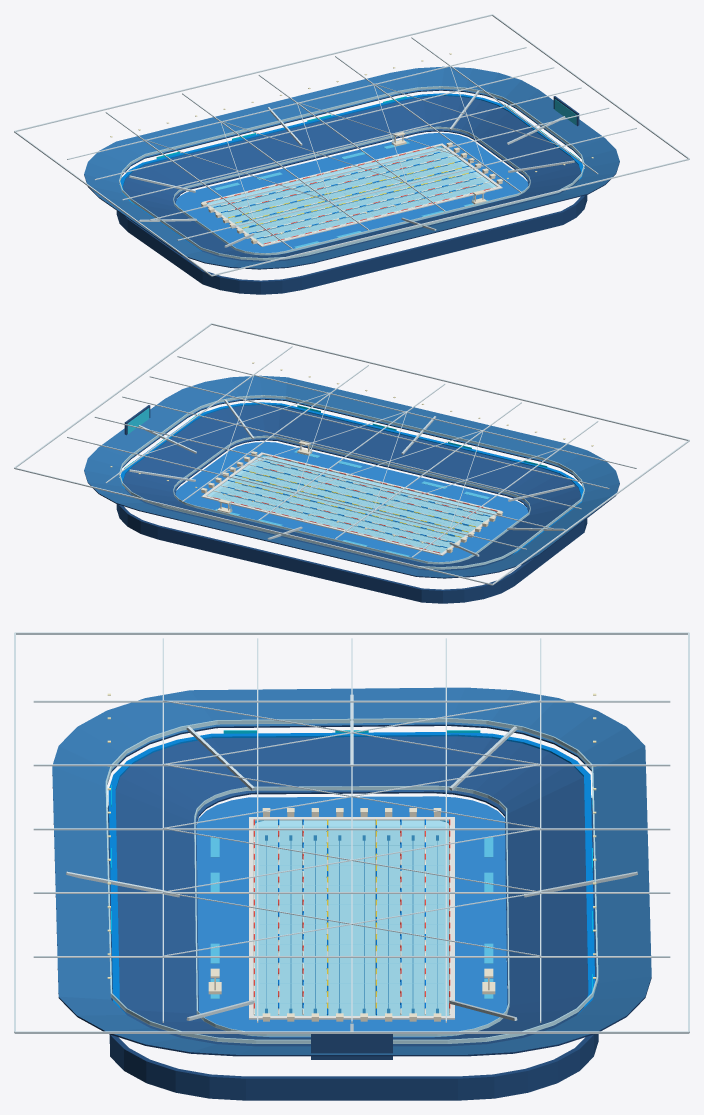
File: LowPolyPool.glb
3 views of the same model, one above another, from view 1: azimuth 30°, elevation 25°; view 2: azimuth 150°, elevation 25°; view 3: azimuth 270°, elevation 25° (orthographic). The views are drawn at different scales.
Visible parts, largest first — view 1: PoolWaterSurface, pool_floor, rounded_blue_pool_deck, dark_inner_concourse_wall, upper_bowl_continuous_row_4, upper_bowl_continuous_row_3, upper_bowl_continuous_row_2, upper_bowl_continuous_row_1, lower_bowl_continuous_row_5, lower_bowl_continuous_row_2, lower_bowl_continuous_row_4, lower_bowl_continuous_row_3 (+16 smaller); view 2: PoolWaterSurface, pool_floor, rounded_blue_pool_deck, dark_inner_concourse_wall, upper_bowl_continuous_row_4, upper_bowl_continuous_row_3, upper_bowl_continuous_row_2, upper_bowl_continuous_row_1, lower_bowl_continuous_row_5, lower_bowl_continuous_row_2, lower_bowl_continuous_row_4, lower_bowl_continuous_row_3 (+16 smaller); view 3: PoolWaterSurface, pool_floor, rounded_blue_pool_deck, upper_bowl_continuous_row_4, upper_bowl_continuous_row_3, upper_bowl_continuous_row_2, dark_inner_concourse_wall, upper_bowl_continuous_row_1, lower_bowl_continuous_row_5, lower_bowl_continuous_row_6, lower_bowl_continuous_row_4, lower_bowl_continuous_row_2 (+31 smaller).
Part boxes in pixels (<box>): PoolWaterSurface: <box>207,146,496,243</box>; pool_floor: <box>211,149,492,243</box>; rounded_blue_pool_deck: <box>175,133,528,254</box>; dark_inner_concourse_wall: <box>116,195,587,294</box>; upper_bowl_continuous_row_4: <box>84,66,619,269</box>; upper_bowl_continuous_row_3: <box>93,72,610,266</box>; upper_bowl_continuous_row_2: <box>101,78,602,265</box>; upper_bowl_continuous_row_1: <box>110,84,593,263</box>; lower_bowl_continuous_row_5: <box>131,101,572,261</box>; lower_bowl_continuous_row_2: <box>158,119,545,257</box>; lower_bowl_continuous_row_4: <box>140,107,563,261</box>; lower_bowl_continuous_row_3: <box>149,113,554,256</box>; PoolWaterSurface: <box>207,455,496,552</box>; pool_floor: <box>211,458,492,552</box>; rounded_blue_pool_deck: <box>175,442,528,563</box>; dark_inner_concourse_wall: <box>116,504,587,603</box>; upper_bowl_continuous_row_4: <box>84,375,619,578</box>; upper_bowl_continuous_row_3: <box>93,381,610,575</box>; upper_bowl_continuous_row_2: <box>101,387,602,574</box>; upper_bowl_continuous_row_1: <box>110,393,593,572</box>; lower_bowl_continuous_row_5: <box>131,410,572,570</box>; lower_bowl_continuous_row_2: <box>158,428,545,566</box>; lower_bowl_continuous_row_4: <box>140,416,563,570</box>; lower_bowl_continuous_row_3: <box>149,422,554,565</box>; PoolWaterSurface: <box>254,820,449,1015</box>; pool_floor: <box>254,826,449,1015</box>; rounded_blue_pool_deck: <box>196,796,507,1037</box>; upper_bowl_continuous_row_4: <box>52,687,651,1056</box>; upper_bowl_continuous_row_3: <box>65,696,638,1052</box>; upper_bowl_continuous_row_2: <box>79,706,624,1050</box>; dark_inner_concourse_wall: <box>107,798,598,1100</box>; upper_bowl_continuous_row_1: <box>92,715,611,1048</box>; lower_bowl_continuous_row_5: <box>129,745,574,1046</box>; lower_bowl_continuous_row_6: <box>115,736,588,1031</box>; lower_bowl_continuous_row_4: <box>142,754,561,1045</box>; lower_bowl_continuous_row_2: <box>169,773,534,1039</box>.
Size of the model in its own units: 102 by 13.2 by 72.62.
